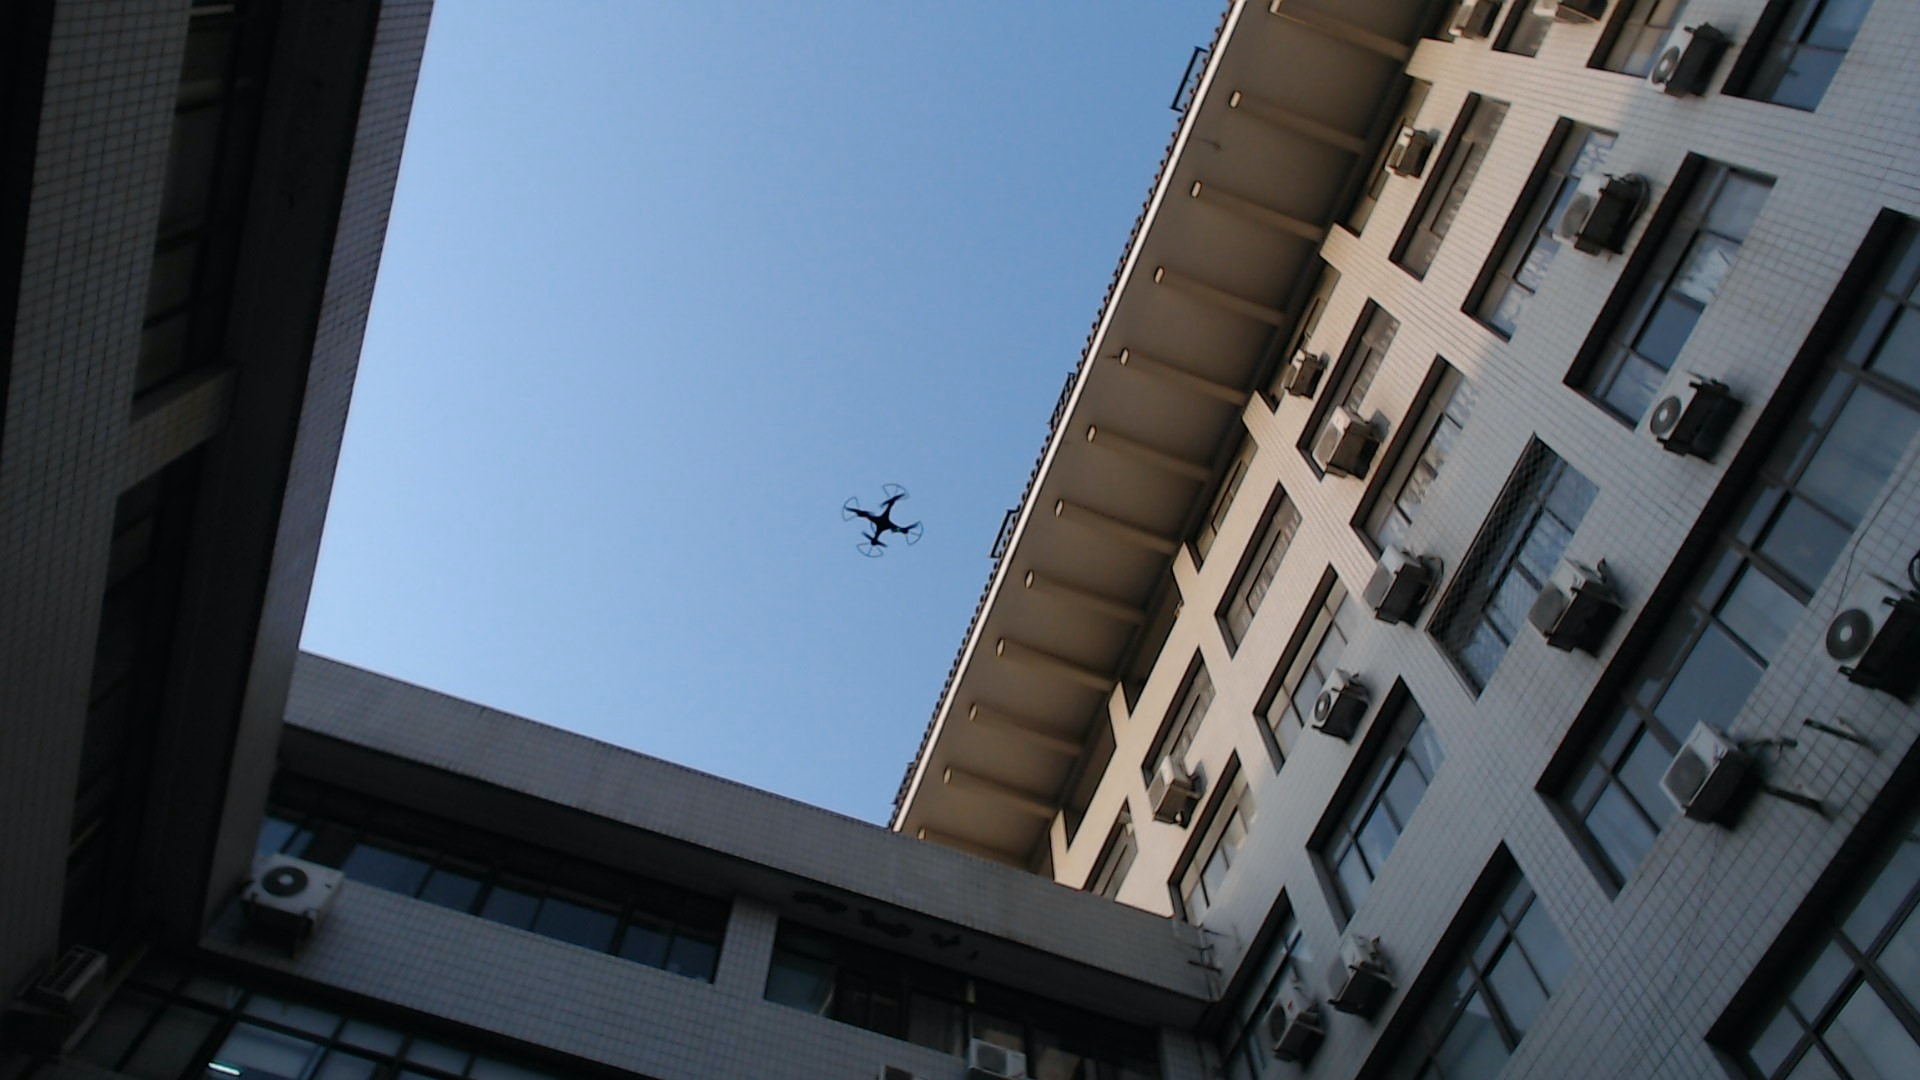drone: (825, 467, 936, 567)
